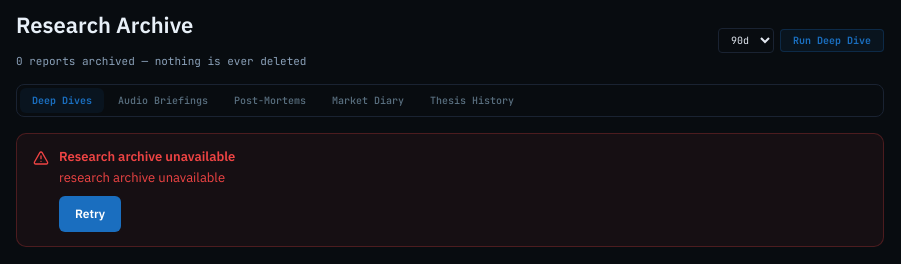
Test: Archive view async data › shows an error state on failure and refetches on retry
Check: the text "research archive unavailable" is shown, box left=59, top=169, right=225, bottom=186
Click the button "Retry" at coordinates (90, 214), box left=59, top=196, right=121, bottom=232
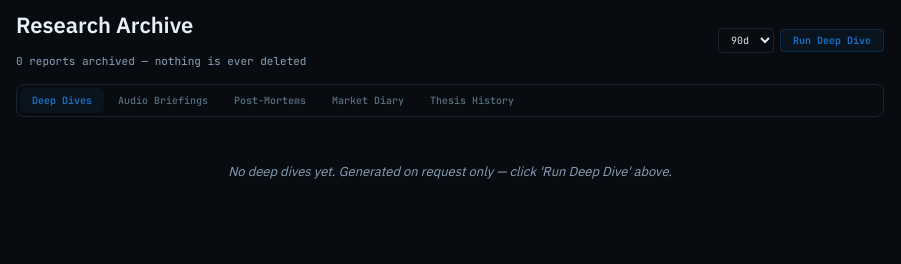
Check: the text "Research archive unavailable" is gone
